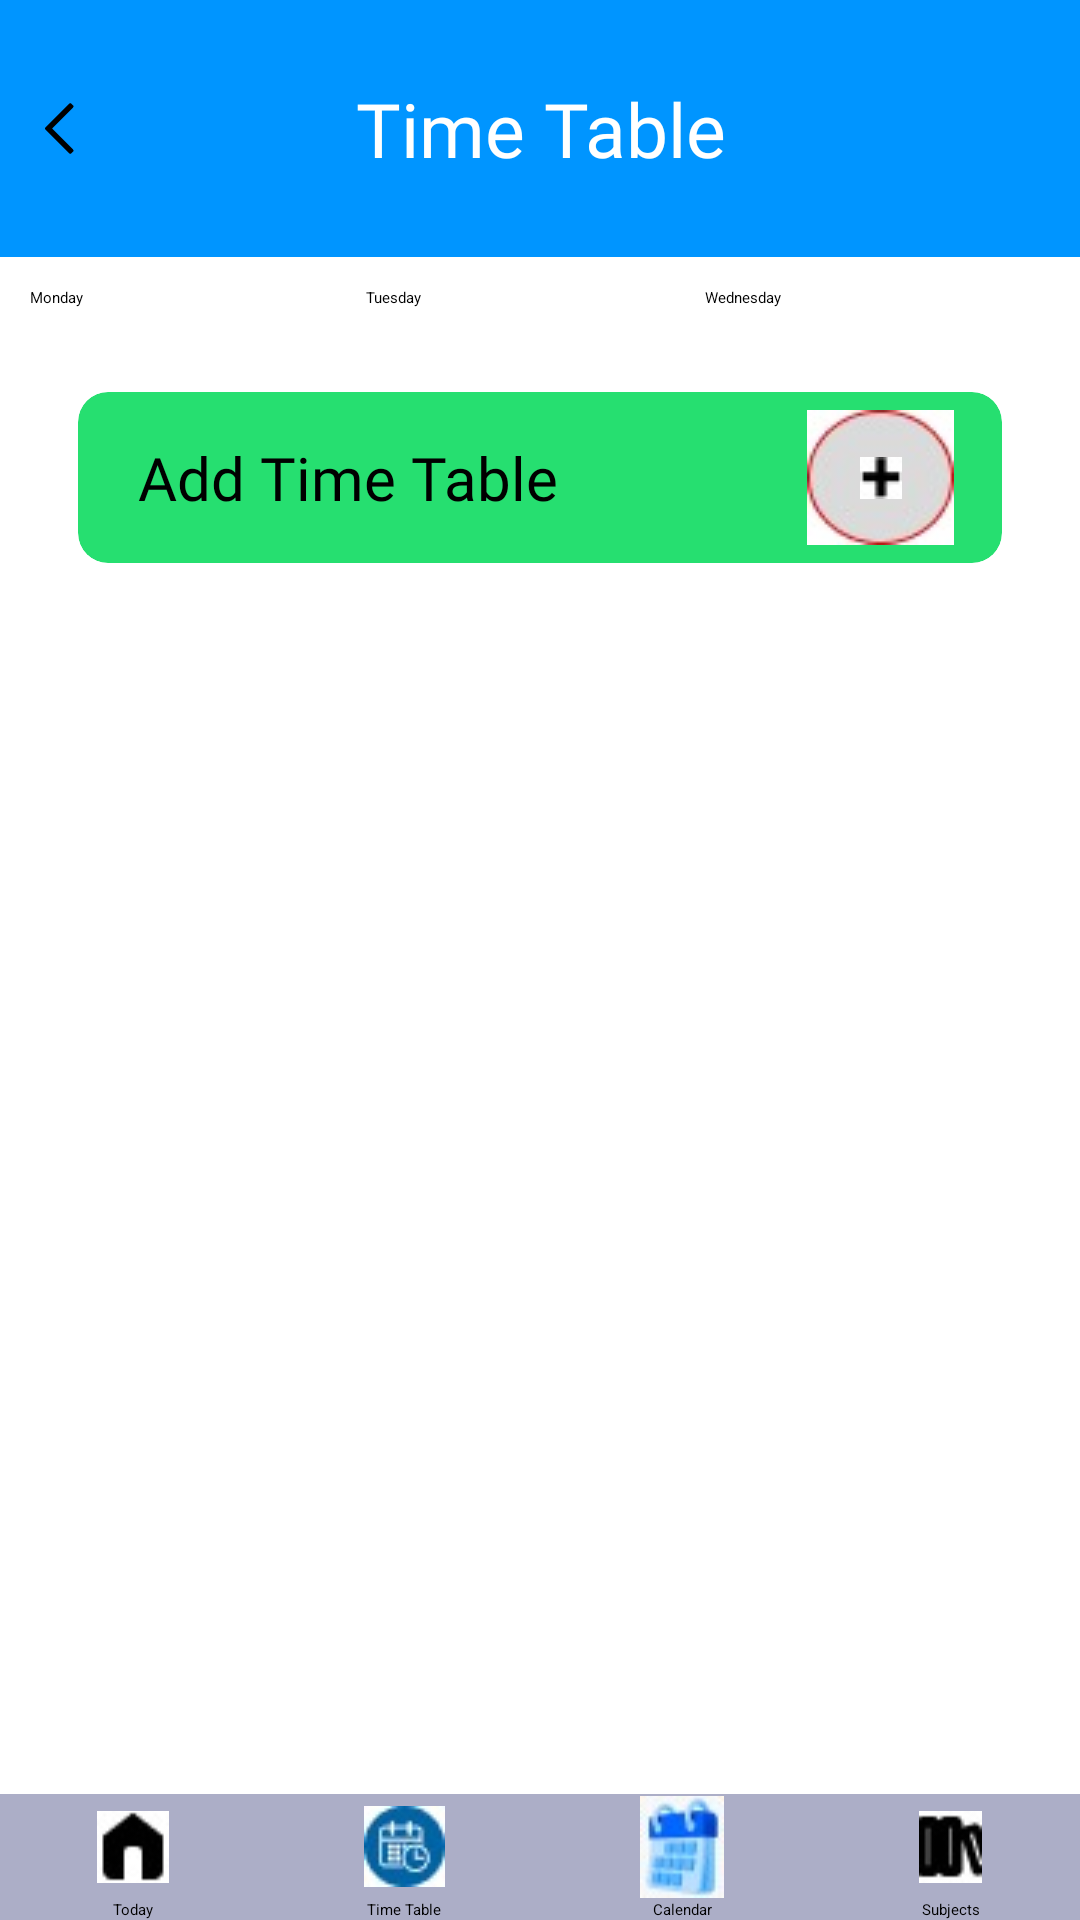

Point at icon controls on the screen. Image size 1080*1920, points as (x,y).
addsubj: (881,478)
back arrow: (59,128)
home: (133,1847)
